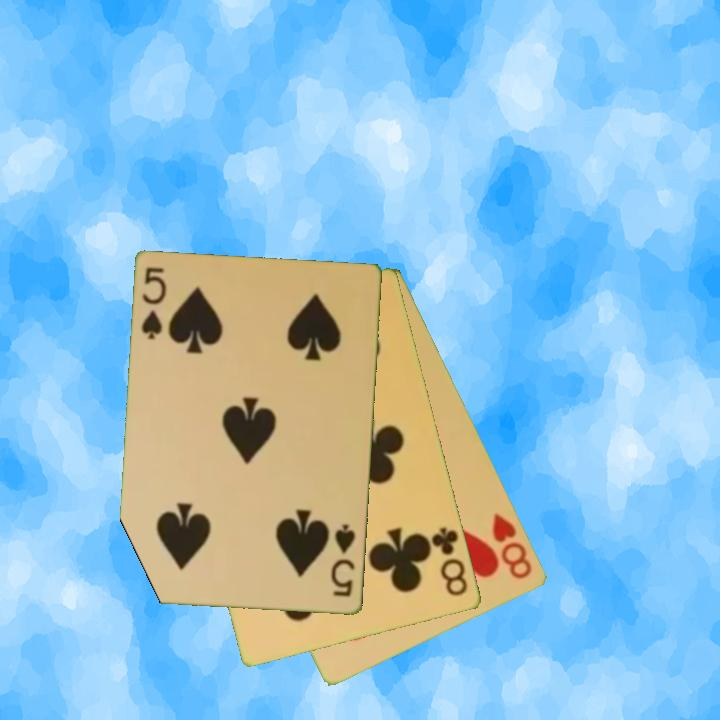5s: (138, 264, 170, 343), (328, 521, 359, 600)
8c: (428, 523, 471, 600)
8h: (489, 510, 536, 583)
